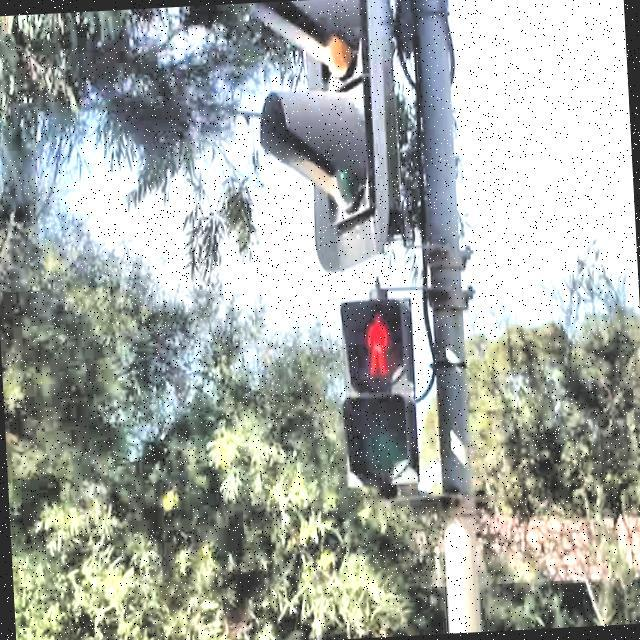red_light: (364, 311, 392, 378)
